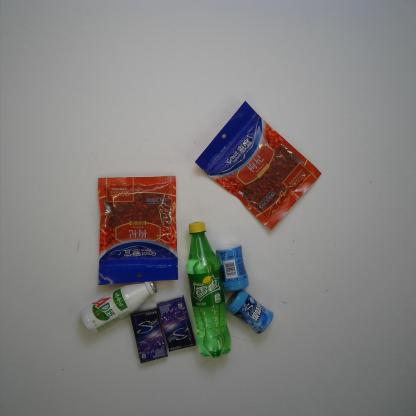Dried Fruit: (194, 96, 324, 233), (95, 172, 183, 286)
Drink: (185, 218, 234, 361)
Gum: (223, 288, 276, 336), (213, 239, 252, 297), (130, 306, 168, 364), (157, 296, 196, 351)
Milk: (80, 277, 158, 332)
